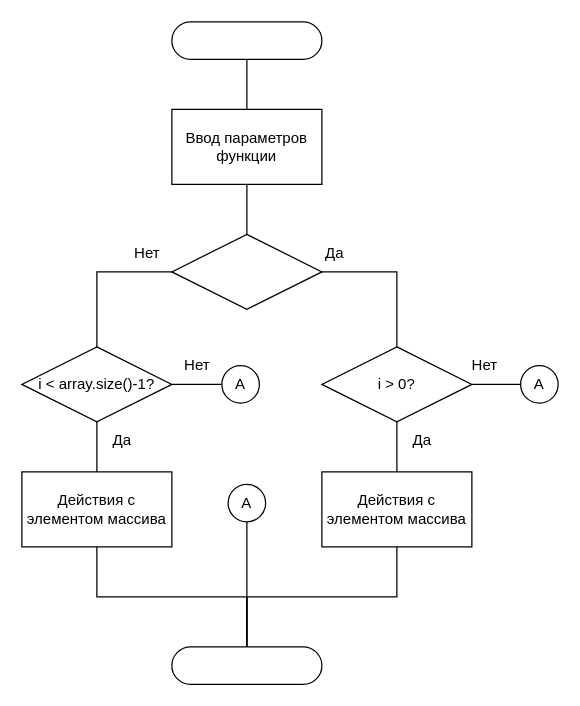
Image size: 580x706. Some labels were removed from this diagram. The centre of each missing label's shape, as x and y in pixels:
"если up" belongs at [246,271].
"Конец" belongs at [246,665].
"Начало" belongs at [246,40].
